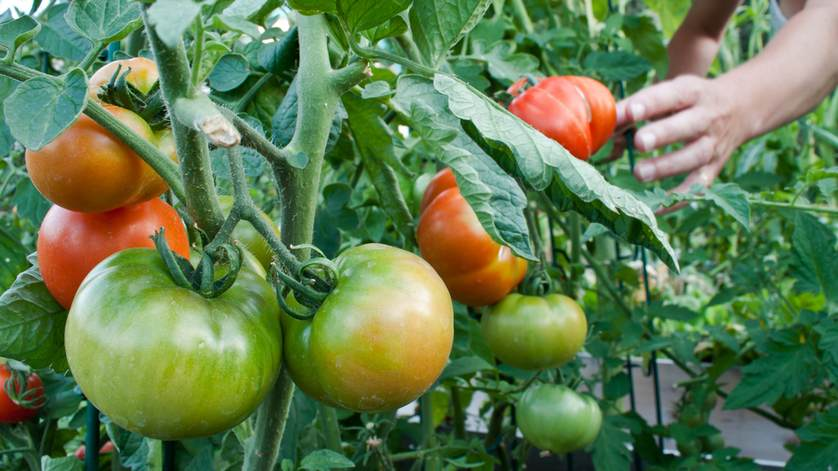tomato: (62, 247, 281, 441), (280, 242, 452, 414), (34, 202, 191, 311), (419, 169, 531, 302), (83, 57, 184, 197), (24, 103, 153, 212), (496, 76, 620, 162), (480, 292, 587, 367), (181, 194, 281, 260), (515, 382, 602, 450)
